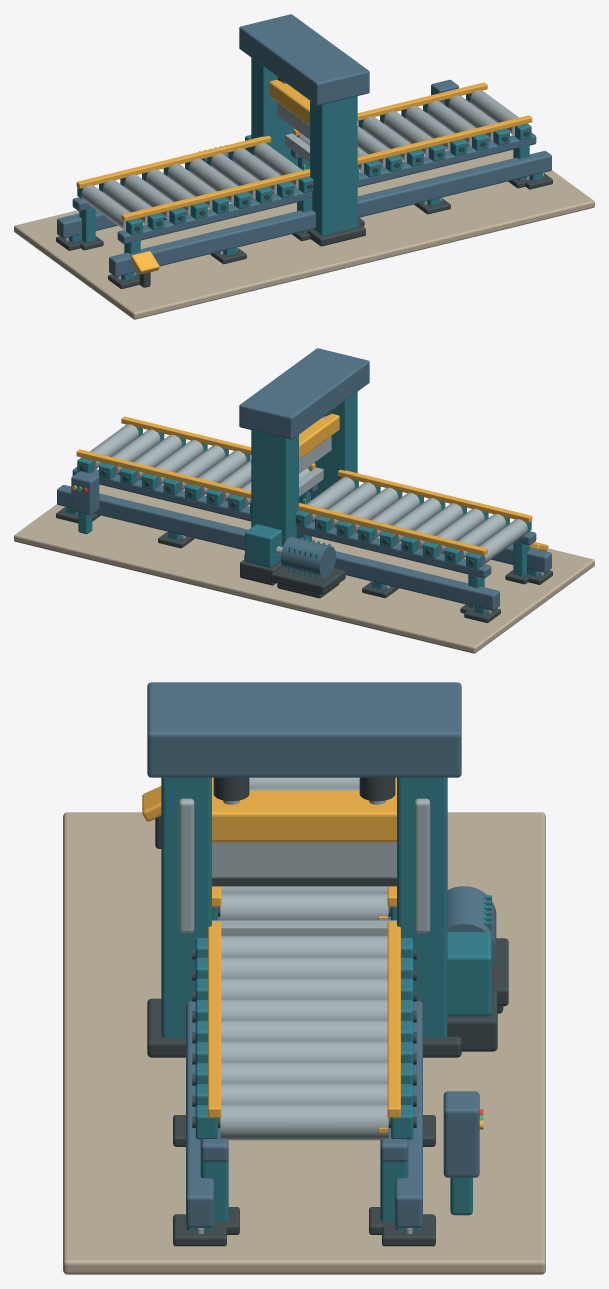
File: CS-WIRE-05-lod0.glb
3 renders of one model, top to bottom at view 1: azimuth 30°, elevation 25°; view 2: azimuth 150°, elevation 25°; view 3: azimuth 270°, elevation 25°, orthographic. The views are drawn at different scales.
Parts seen in each view (by area): view 1: foundation, right_bed_beam, shear_crown, right_column, left_column, entry_table_right_sill, exit_table_right_sill, entry_table_right_guard, entry_table_left_guard, exit_table_right_guard, exit_table_left_guard, blade_holder (+22 smaller); view 2: foundation, left_bed_beam, shear_crown, left_column, right_column, entry_table_left_sill, exit_table_left_sill, motor_housing, entry_table_left_guard, entry_table_right_guard, exit_table_left_guard, right_angle_gearbox (+25 smaller); view 3: foundation, shear_crown, left_column, right_column, blade_holder, upper_blade, exit_table_idler_8, entry_table_idler_8, right_angle_gearbox, exit_table_idler_4, exit_table_idler_5, exit_table_idler_6 (+28 smaller).
Part boxes in pixels (<box>): foundation: <box>14,149,594,319</box>; right_bed_beam: <box>109,151,551,276</box>; shear_crown: <box>239,14,369,105</box>; right_column: <box>310,96,357,235</box>; left_column: <box>251,58,297,165</box>; entry_table_right_sill: <box>117,188,312,244</box>; exit_table_right_sill: <box>357,133,536,187</box>; entry_table_right_guard: <box>121,169,310,221</box>; entry_table_left_guard: <box>76,135,271,188</box>; exit_table_right_guard: <box>357,115,532,164</box>; exit_table_left_guard: <box>293,82,487,135</box>; blade_holder: <box>269,79,309,125</box>; foundation: <box>14,483,594,653</box>; left_bed_beam: <box>57,485,499,610</box>; shear_crown: <box>239,348,369,439</box>; left_column: <box>251,430,298,546</box>; right_column: <box>311,392,357,499</box>; entry_table_left_sill: <box>296,522,491,578</box>; exit_table_left_sill: <box>72,467,251,521</box>; motor_housing: <box>280,537,335,577</box>; entry_table_left_guard: <box>298,503,487,555</box>; entry_table_right_guard: <box>337,469,532,522</box>; exit_table_left_guard: <box>76,449,251,498</box>; right_angle_gearbox: <box>245,524,281,567</box>; foundation: <box>63,812,545,1274</box>; shear_crown: <box>147,682,461,777</box>; left_column: <box>397,777,447,1037</box>; right_column: <box>161,777,211,1037</box>; blade_holder: <box>212,790,396,842</box>; upper_blade: <box>212,842,396,877</box>; exit_table_idler_8: <box>220,1104,388,1140</box>; entry_table_idler_8: <box>220,893,388,920</box>; right_angle_gearbox: <box>447,932,491,1016</box>; exit_table_idler_4: <box>221,1020,387,1041</box>; exit_table_idler_5: <box>221,1041,387,1062</box>; exit_table_idler_6: <box>221,1062,387,1083</box>.
Bounding box in the file's own units: 9.5 × 3.4 × 4.3.
